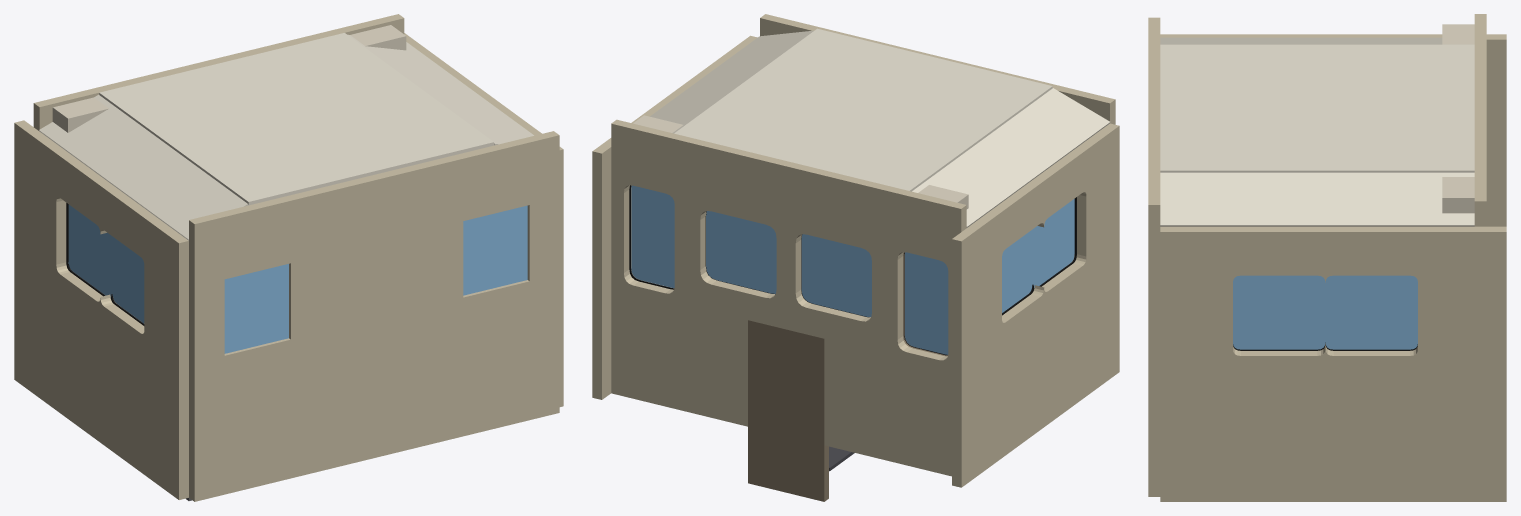
The picture shows the model from 3 angles, left to right: view 1: azimuth 30°, elevation 25°; view 2: azimuth 150°, elevation 25°; view 3: azimuth 270°, elevation 25°; orthographic projection. The views are drawn at different scales.
Visible parts, largest first — view 1: back_c, wall_L, ceil_c, ceil_s-1, back_l, back_lo1, back_lo-1, back_r, back_win1, back_win-1, ceil_s1, back_hi1 (+8 smaller); view 2: wall_L, ceil_c, front_low_r, front_low_l, front_rake_r, front_rake_l, front_door, ceil_s-1, wall_R, glass1, glass-1, ceil_s1 (+7 smaller); view 3: wall_R, ceil_c, ceil_s1, sideglass_10, sideglass_11, wall_L, back_r, ceil_s-1, front_rake_r, front_rake_l, overhead_r, back_c (+3 smaller).
Part boxes in pixels (x1,y1,x2,y2): back_c: (285, 154, 463, 478); wall_L: (14, 120, 188, 499); ceil_c: (99, 33, 493, 205); ceil_s-1: (39, 94, 248, 240); back_l: (189, 213, 224, 501); back_lo1: (463, 280, 529, 436); back_lo-1: (224, 338, 290, 494); back_r: (524, 131, 559, 419); back_win1: (463, 205, 527, 295); back_win-1: (224, 264, 288, 353); ceil_s1: (348, 34, 533, 145); back_hi1: (458, 138, 529, 220); wall_L: (952, 123, 1119, 487); ceil_c: (674, 28, 1052, 191); front_low_r: (611, 259, 752, 426); front_low_l: (824, 308, 951, 476); front_rake_r: (611, 119, 790, 302); front_rake_l: (786, 162, 966, 343); front_door: (748, 320, 828, 501); ceil_s-1: (912, 88, 1110, 227); wall_R: (592, 35, 757, 399); glass1: (706, 211, 776, 293); glass-1: (801, 234, 871, 316); ceil_s1: (650, 30, 813, 133); wall_R: (1160, 226, 1506, 501); ceil_c: (1160, 44, 1474, 172); ceil_s1: (1160, 172, 1474, 226); sideglass_10: (1325, 275, 1417, 349); sideglass_11: (1233, 275, 1325, 349); wall_L: (1160, 34, 1506, 226); back_r: (1148, 189, 1160, 496); ceil_s-1: (1160, 37, 1442, 44); front_rake_r: (1474, 107, 1486, 226); front_rake_l: (1474, 14, 1486, 107); overhead_r: (1442, 177, 1474, 213); back_c: (1148, 67, 1160, 155).
Bounding box in the file's own units: 2.95 × 2.49 × 2.26.
